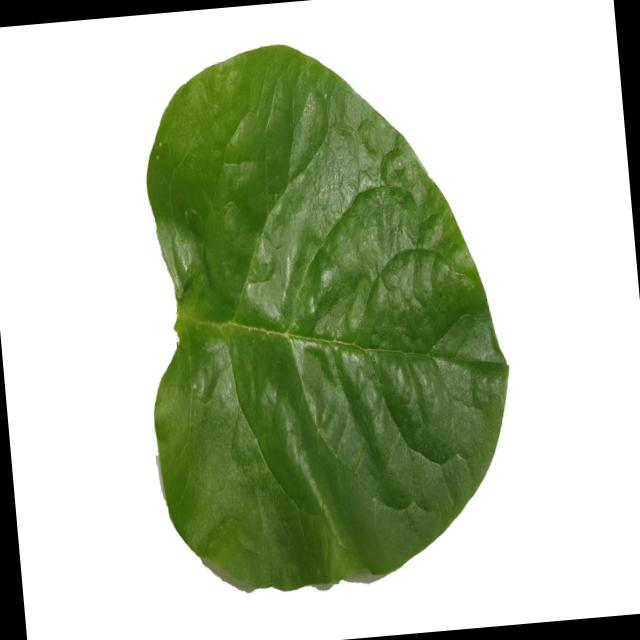Medicinal-Basale: (122, 26, 526, 598)
